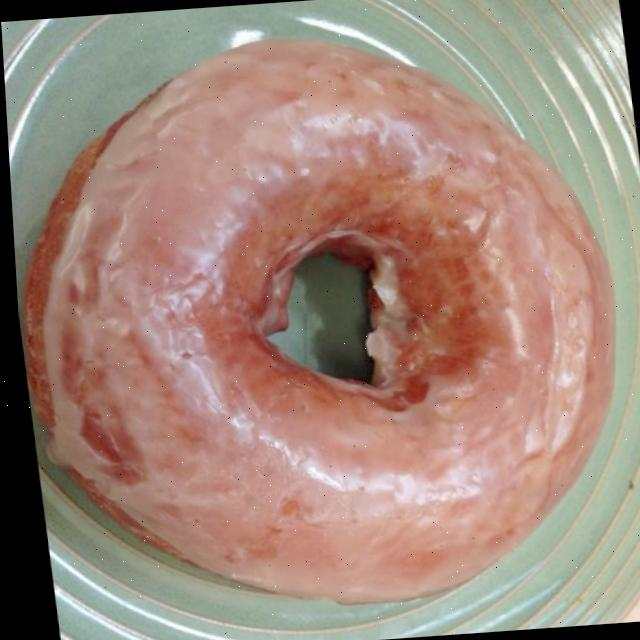炸货点心: (3, 21, 640, 624)
